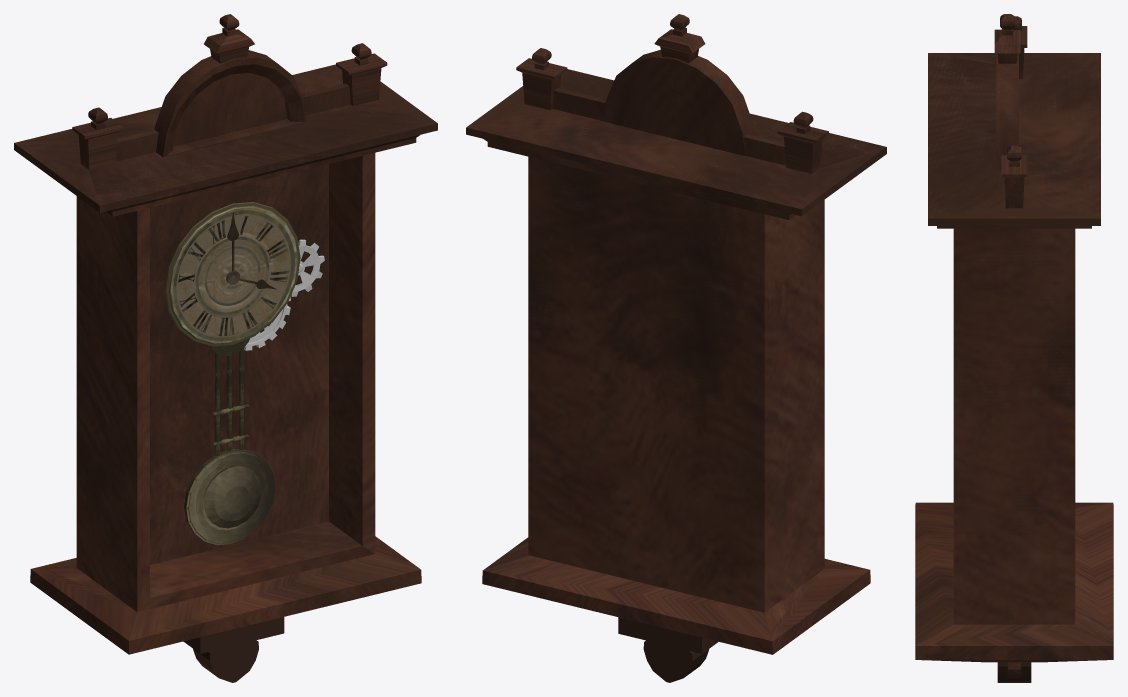
The model's file is GrandfatherClock.fbx.
3 renders of one model, left to right at view 1: azimuth 30°, elevation 25°; view 2: azimuth 150°, elevation 25°; view 3: azimuth 270°, elevation 25°, orthographic.
Visible parts, largest first — view 1: pasted__pasted__pCylinder12; view 2: pasted__pasted__pCylinder12; view 3: pasted__pasted__pCylinder12.
Boxes of the visible parts, x1,y1,x2,y2 form: pasted__pasted__pCylinder12: [14, 14, 437, 682]; pasted__pasted__pCylinder12: [466, 14, 886, 682]; pasted__pasted__pCylinder12: [915, 14, 1113, 682].
Size of the model in its own units: 161 by 301 by 81.29.
